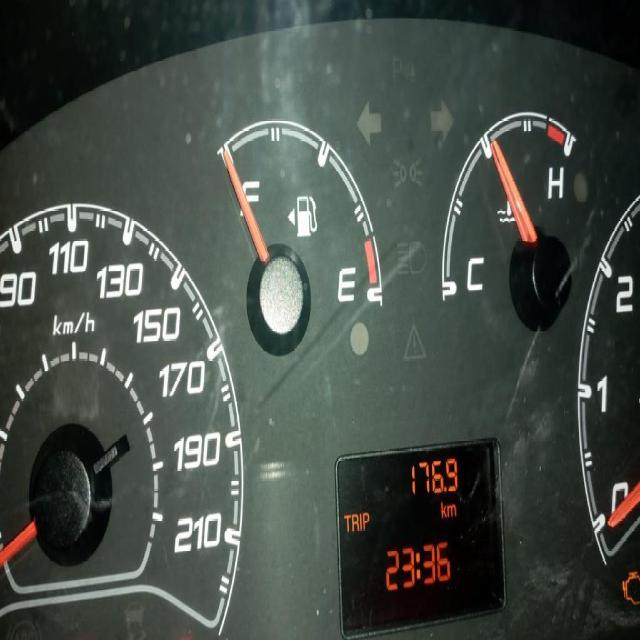odometer: (332, 431, 508, 638)
